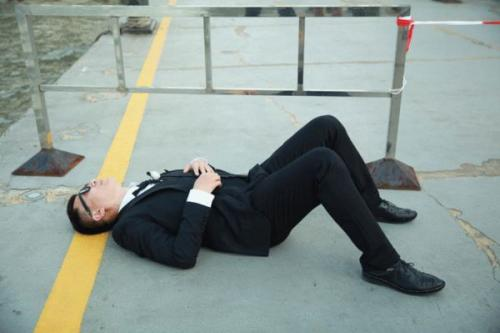fall: (54, 110, 454, 286)
